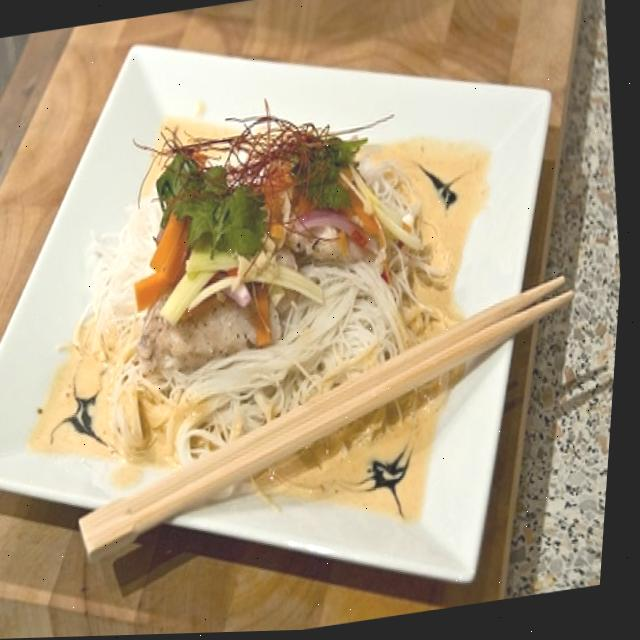面条主食: (0, 12, 600, 640)
